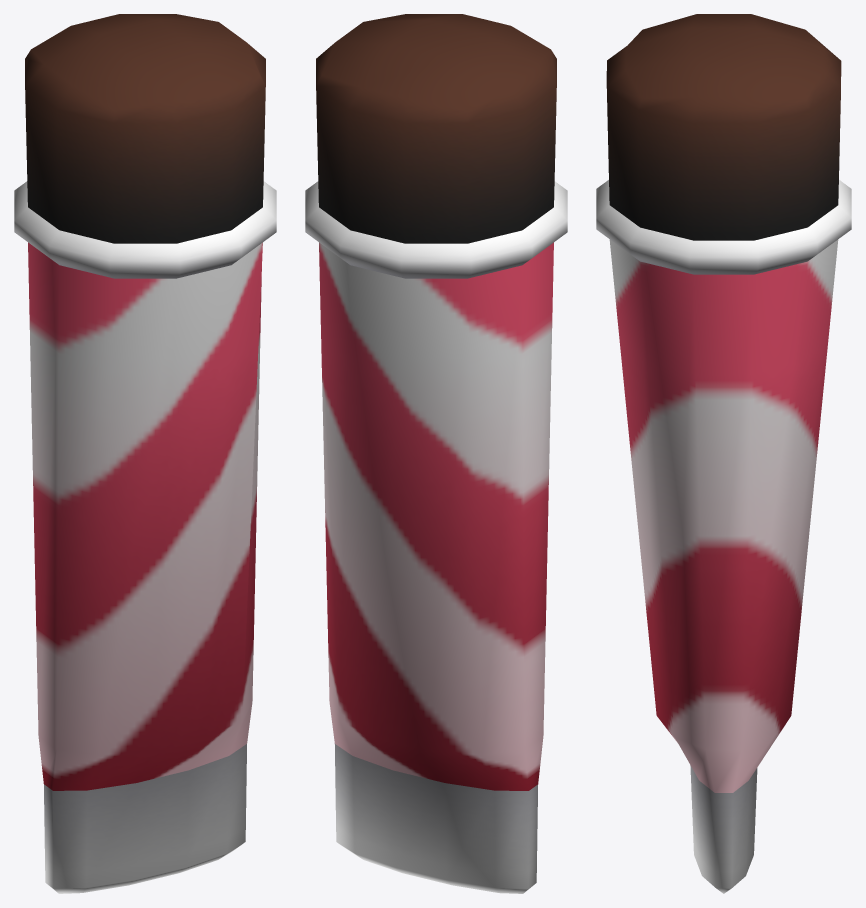
Rendered from m_PushPop04.fbx.
3 views of the same model, side by side, from view 1: azimuth 30°, elevation 25°; view 2: azimuth 150°, elevation 25°; view 3: azimuth 270°, elevation 25° (orthographic). The views are drawn at different scales.
Visible parts, largest first — view 1: m_PushPop04; view 2: m_PushPop04; view 3: m_PushPop04.
Boxes of the visible parts, x1,y1,x2,y2 form: m_PushPop04: (14, 14, 276, 893); m_PushPop04: (305, 14, 567, 893); m_PushPop04: (596, 14, 851, 893).
Bounding box in the file's own units: 6.5 × 22.79 × 6.5.
